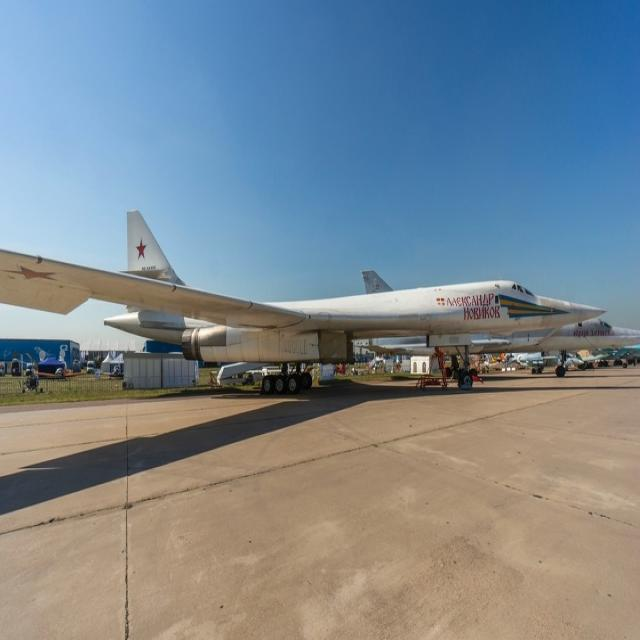Tu160: (1, 146, 623, 438)
